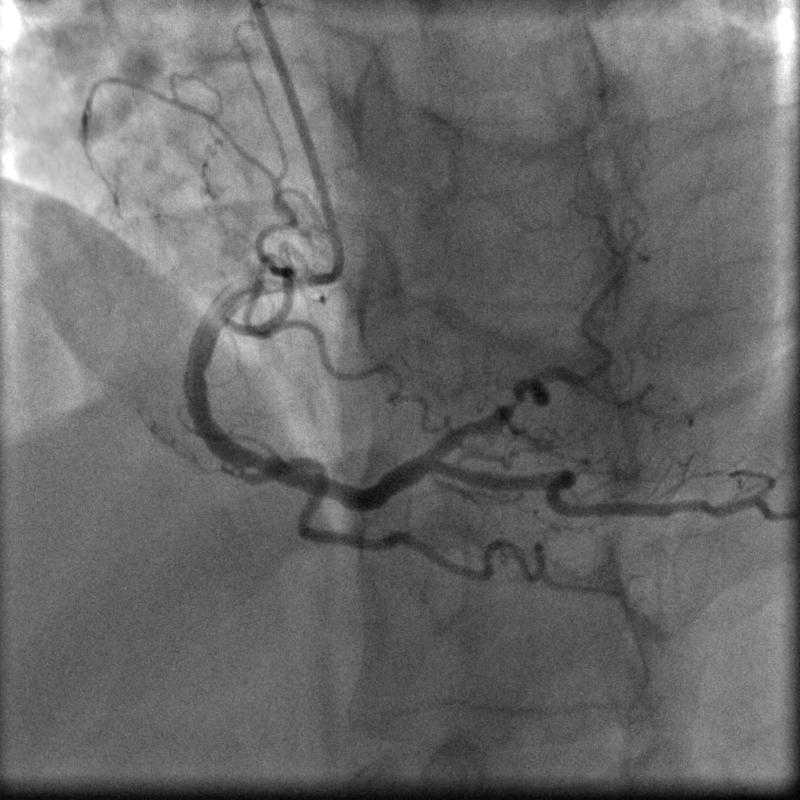Stenosis: (494, 388, 529, 414)
